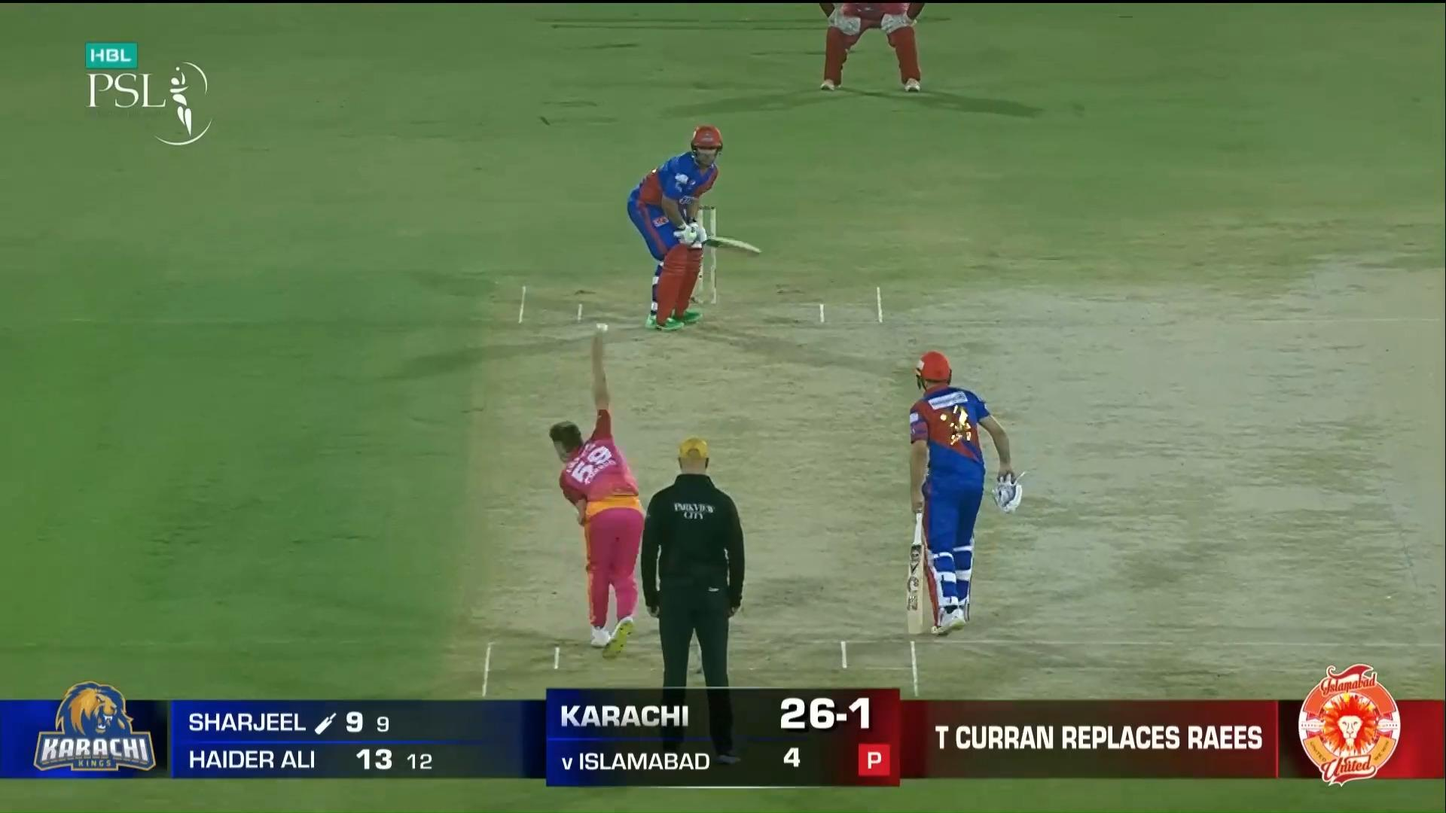batsman: (627, 124, 761, 331)
